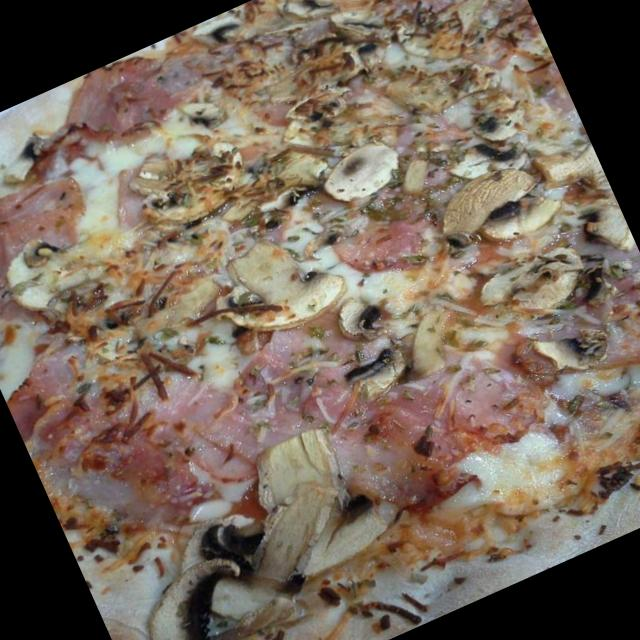mushrooms: (204, 422, 382, 610), (198, 215, 354, 353), (130, 120, 258, 239), (125, 544, 276, 640), (422, 151, 546, 255), (0, 218, 111, 324), (482, 237, 598, 334), (471, 178, 582, 258), (272, 76, 368, 164), (522, 313, 616, 397), (387, 303, 471, 396), (312, 131, 406, 214), (448, 76, 530, 152), (526, 131, 604, 205), (343, 340, 414, 409), (323, 0, 391, 64), (578, 198, 637, 265), (332, 288, 396, 348)
pizza: (0, 0, 640, 640)
